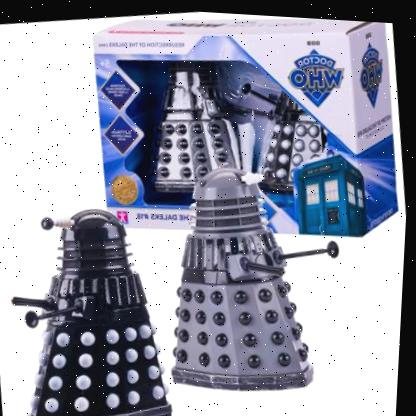dalek: (135, 137, 357, 416), (0, 167, 196, 416)
